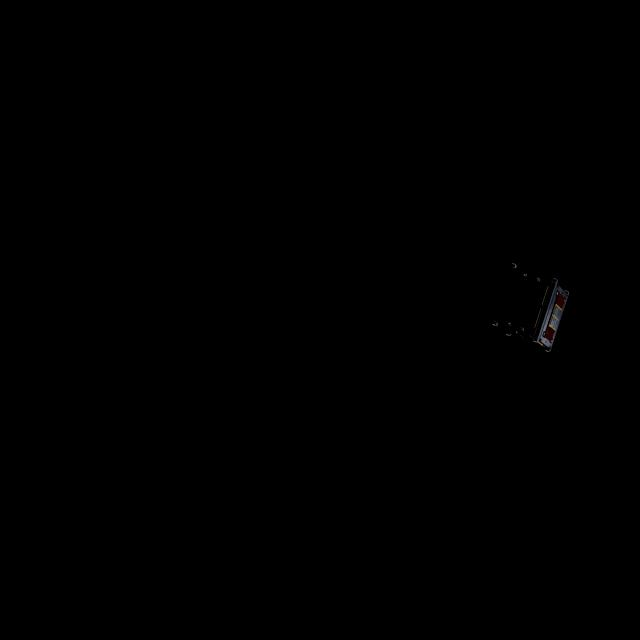medium_debris: (493, 266, 572, 358)
